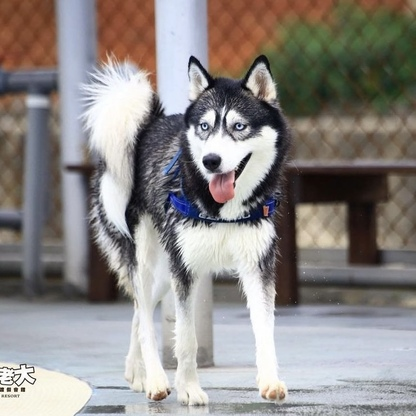husky: (78, 44, 298, 410)
